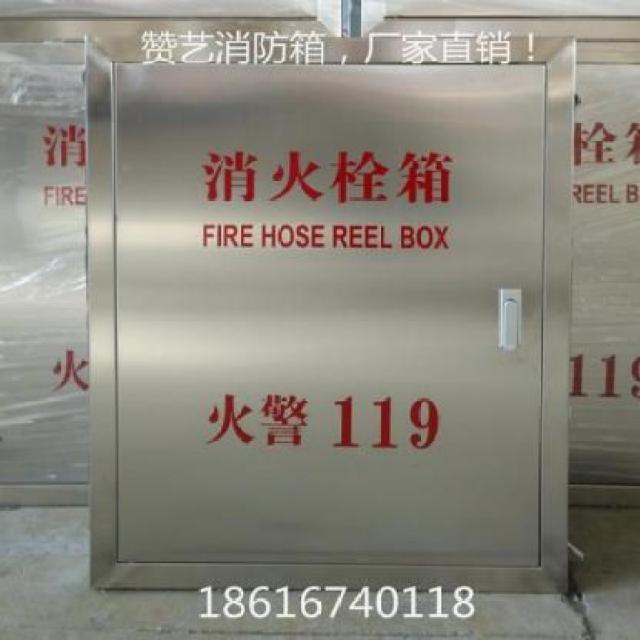firehydrant: (82, 31, 578, 601), (0, 4, 346, 516), (354, 8, 640, 512)
